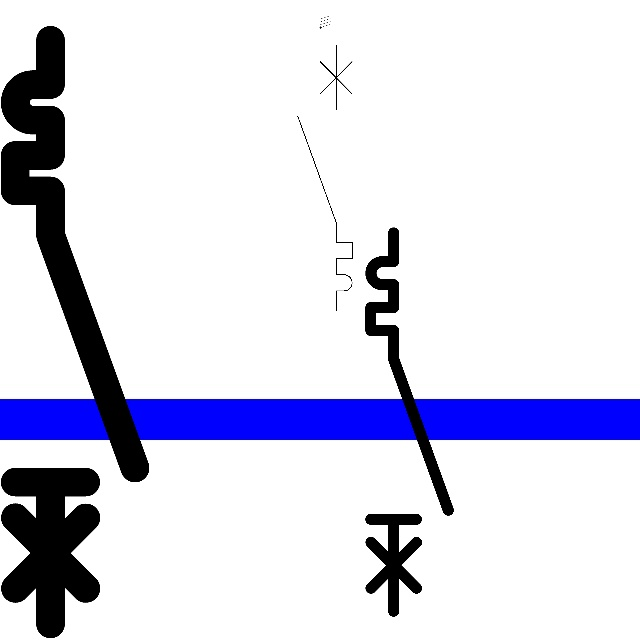interruptor_termomagnetico: (0, 25, 150, 639), (361, 223, 458, 621), (291, 38, 359, 318)
